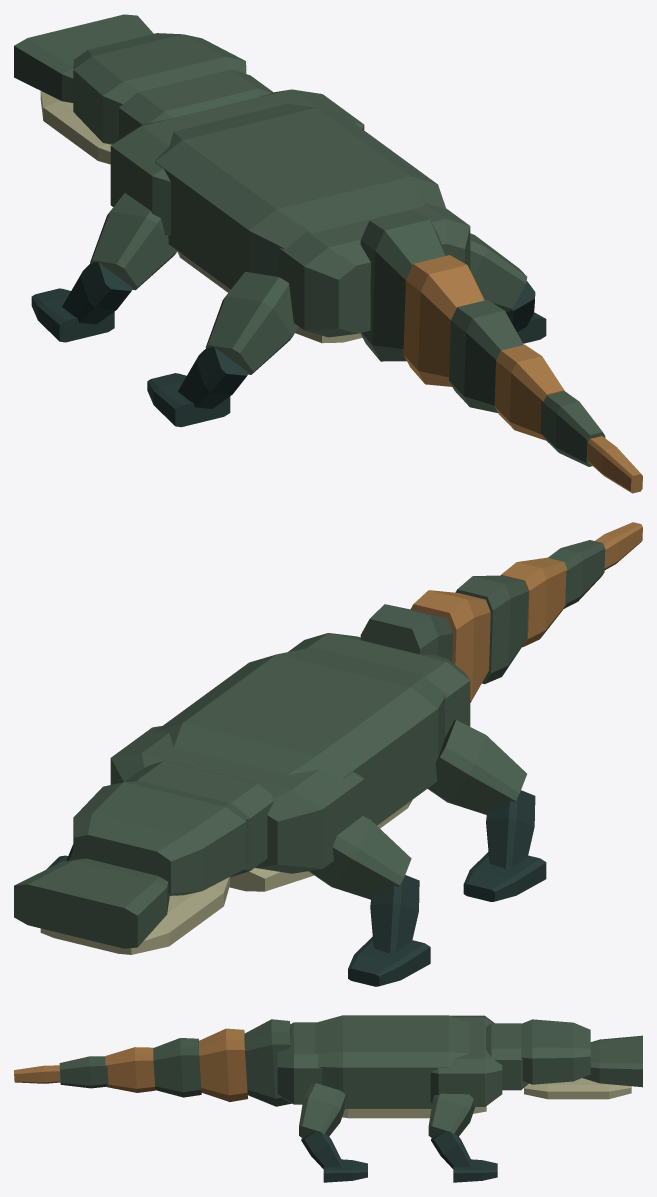
The model's file is Tideback__LOD1.gltf.
3 views of the same model, one above another, from view 1: azimuth 30°, elevation 25°; view 2: azimuth 150°, elevation 25°; view 3: azimuth 270°, elevation 25° (orthographic). The views are drawn at different scales.
Parts seen in each view (by area): view 1: Root, Head, Tail0, Tail1, Leg-11.0, Tail2, Leg-1-0.75_Knee, Leg-11.0_Knee, Leg-1-0.75, Neck, Tail3, Tail4 (+3 smaller); view 2: Root, Head, Leg-11.0, Leg-11.0_Knee, Leg-1-0.75_Knee, Neck, Leg-1-0.75, Tail1, Tail2, Tail0, Tail3, Tail4 (+1 smaller); view 3: Root, Head, Tail1, Tail0, Tail2, Tail3, Neck, Leg11.0, Leg1-0.75_Knee, Leg11.0_Knee, Leg1-0.75, Tail4 (+1 smaller).
Boxes of the visible parts, x1,y1,x2,y2 form: Root: (110, 89, 470, 343); Head: (14, 14, 246, 164); Tail0: (360, 210, 446, 361); Tail1: (403, 255, 484, 386); Leg-11.0: (205, 271, 298, 374); Tail2: (449, 300, 523, 412); Leg-1-0.75_Knee: (31, 262, 132, 342); Leg-11.0_Knee: (147, 347, 248, 427); Leg-1-0.75: (90, 193, 177, 290); Neck: (119, 69, 272, 139); Tail3: (494, 344, 564, 440); Tail4: (540, 391, 605, 466); Root: (110, 633, 470, 891); Head: (14, 781, 246, 954); Leg-11.0: (427, 719, 526, 814); Leg-11.0_Knee: (463, 790, 546, 901); Leg-1-0.75_Knee: (348, 875, 430, 986); Neck: (125, 760, 273, 876); Leg-1-0.75: (309, 816, 411, 899); Tail1: (410, 590, 490, 702); Tail2: (455, 575, 528, 684); Tail0: (360, 604, 453, 662); Tail3: (500, 557, 567, 647); Tail4: (548, 540, 605, 608); Root: (277, 1015, 502, 1118); Head: (521, 1019, 642, 1099); Tail1: (199, 1028, 247, 1101); Tail0: (244, 1019, 291, 1106); Tail2: (153, 1038, 201, 1097); Tail3: (105, 1047, 155, 1092); Neck: (486, 1023, 528, 1090); Leg11.0: (299, 1083, 345, 1138); Leg1-0.75_Knee: (431, 1131, 497, 1182); Leg11.0_Knee: (301, 1131, 367, 1182); Leg1-0.75: (428, 1093, 475, 1137); Tail4: (59, 1056, 108, 1088).
Bounding box in the file's own units: 3.24 × 1.61 × 8.49.
Materials: 1 (1 with a texture image).
